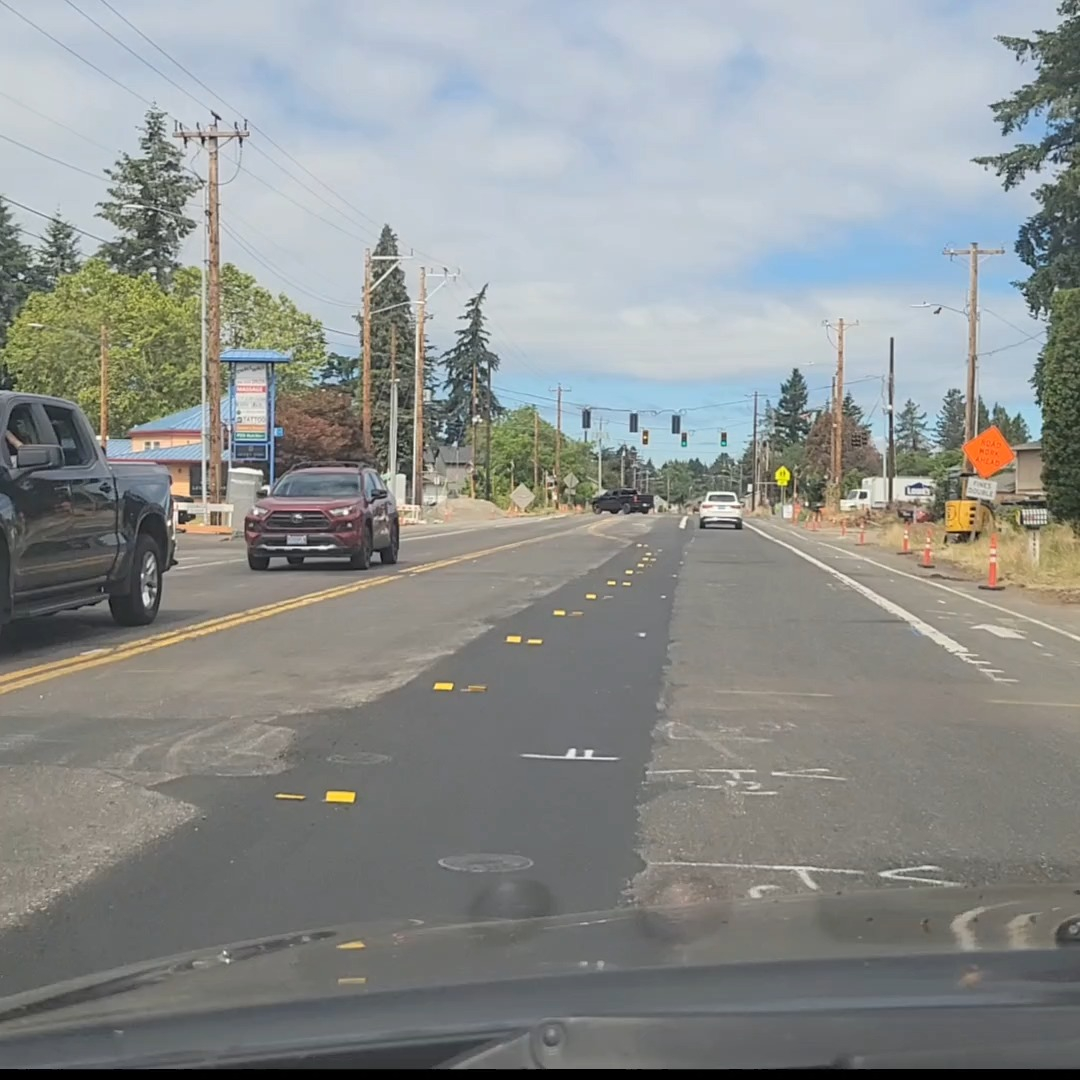car: (1, 387, 178, 648), (246, 458, 402, 573), (697, 491, 744, 529), (590, 487, 652, 514)
crosswalk-sign: (775, 465, 791, 489)
delineator: (977, 530, 1009, 594), (917, 528, 935, 569), (905, 518, 926, 551), (855, 516, 869, 548), (898, 525, 911, 554), (809, 510, 820, 531), (804, 509, 814, 528), (826, 511, 839, 525), (791, 503, 800, 523), (838, 517, 847, 536), (507, 502, 519, 514), (575, 503, 581, 510)
